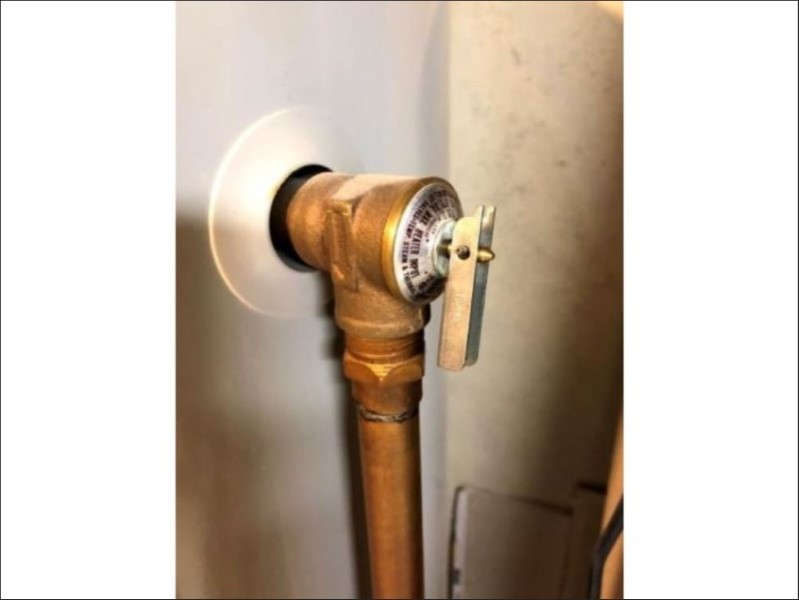Valve: (265, 163, 497, 430)
